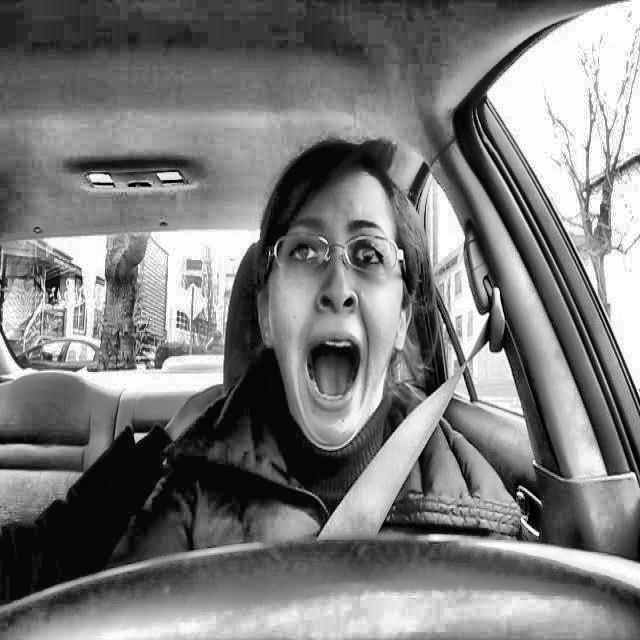open_eyes: (276, 233, 328, 271), (347, 236, 396, 276)
open_mouth: (297, 326, 372, 422)
